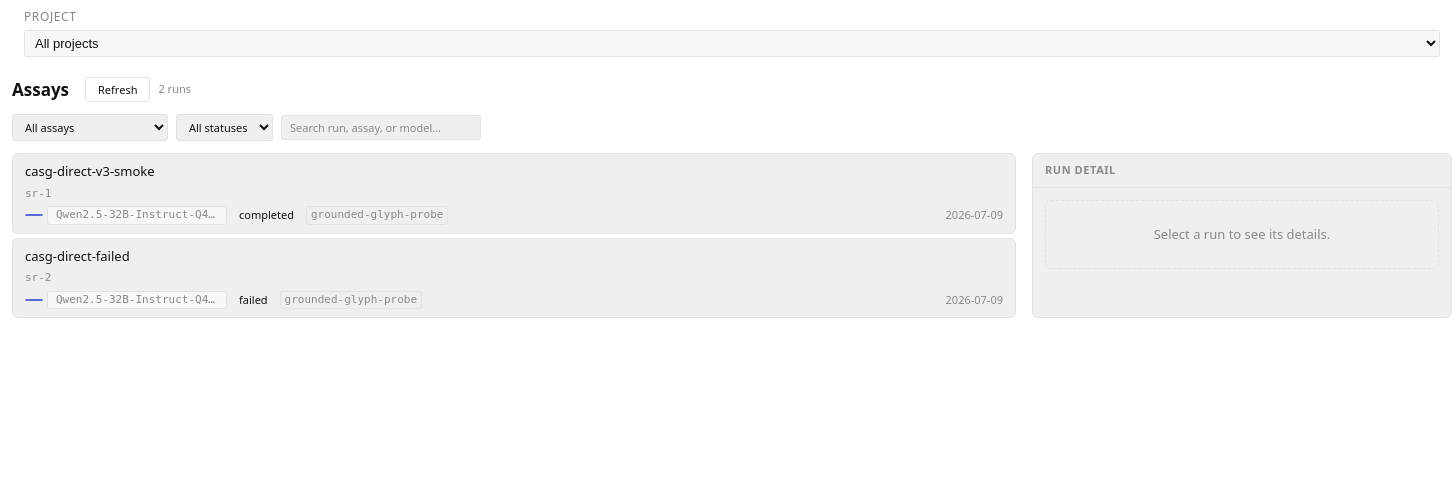
Scenario: AssaysPage › a failed run with no scores shows the error and no grid
This screenshot has width=1452, height=480.
Click the list item with test id "assay-row" that starts with "casg-direct-failed". click: point(514, 278)
box: [12,238,1016,318]
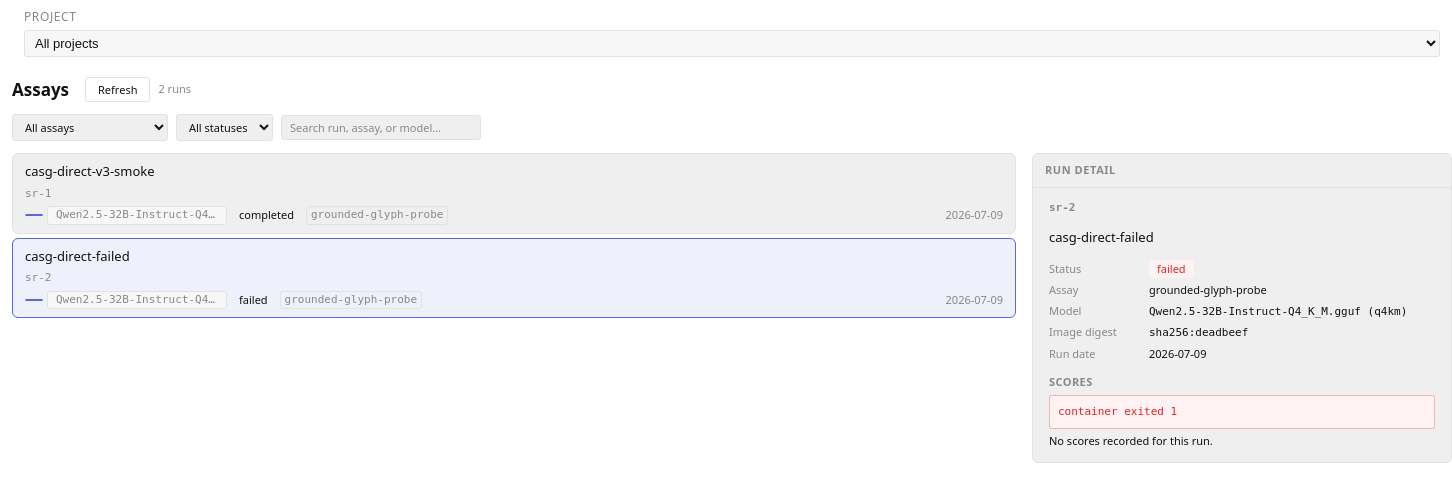
Check: the text with test id "assay-run-error" reads "container exited 1", box [1058,404,1177,418]
